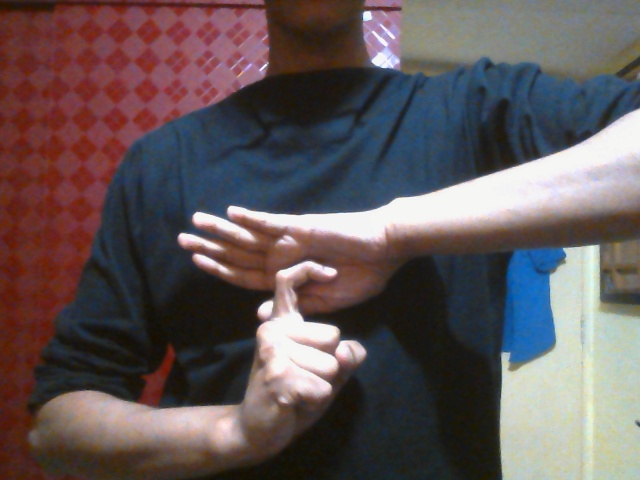R: (174, 201, 387, 439)
